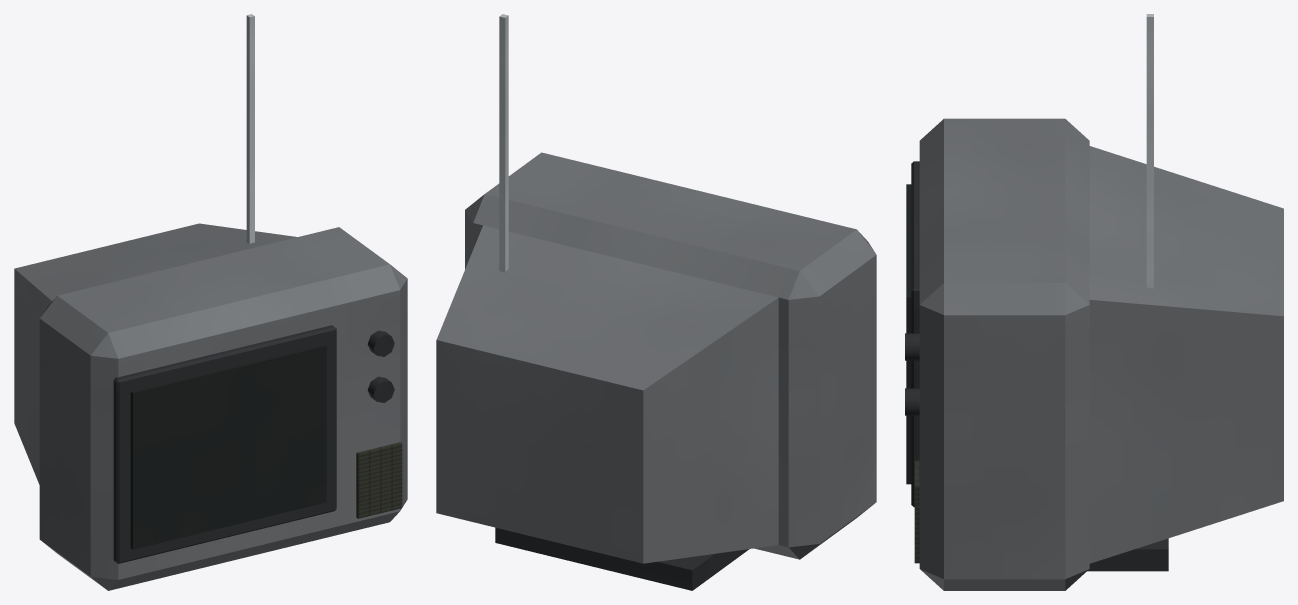
The model's file is tv_cell.fbx.
3 renders of one model, left to right at view 1: azimuth 30°, elevation 25°; view 2: azimuth 150°, elevation 25°; view 3: azimuth 270°, elevation 25°, orthographic. The views are drawn at different scales.
Parts seen in each view (by area): view 1: tv_cell; view 2: tv_cell; view 3: tv_cell.
Boxes of the visible parts, x1,y1,x2,y2 form: tv_cell: (14,14,407,590); tv_cell: (436,14,876,590); tv_cell: (905,14,1283,590).
Bounding box in the file's own units: 0.36 × 0.505 × 0.312.
Materials: 1 (1 with a texture image).
